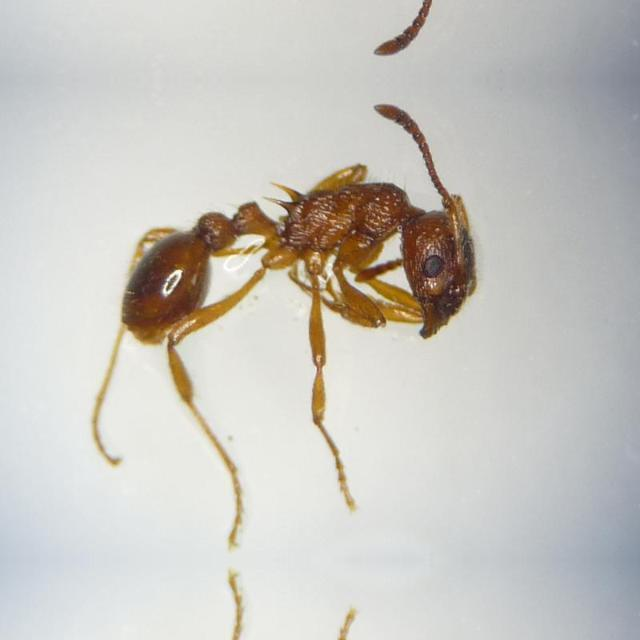Myrmica: (90, 108, 502, 410)
